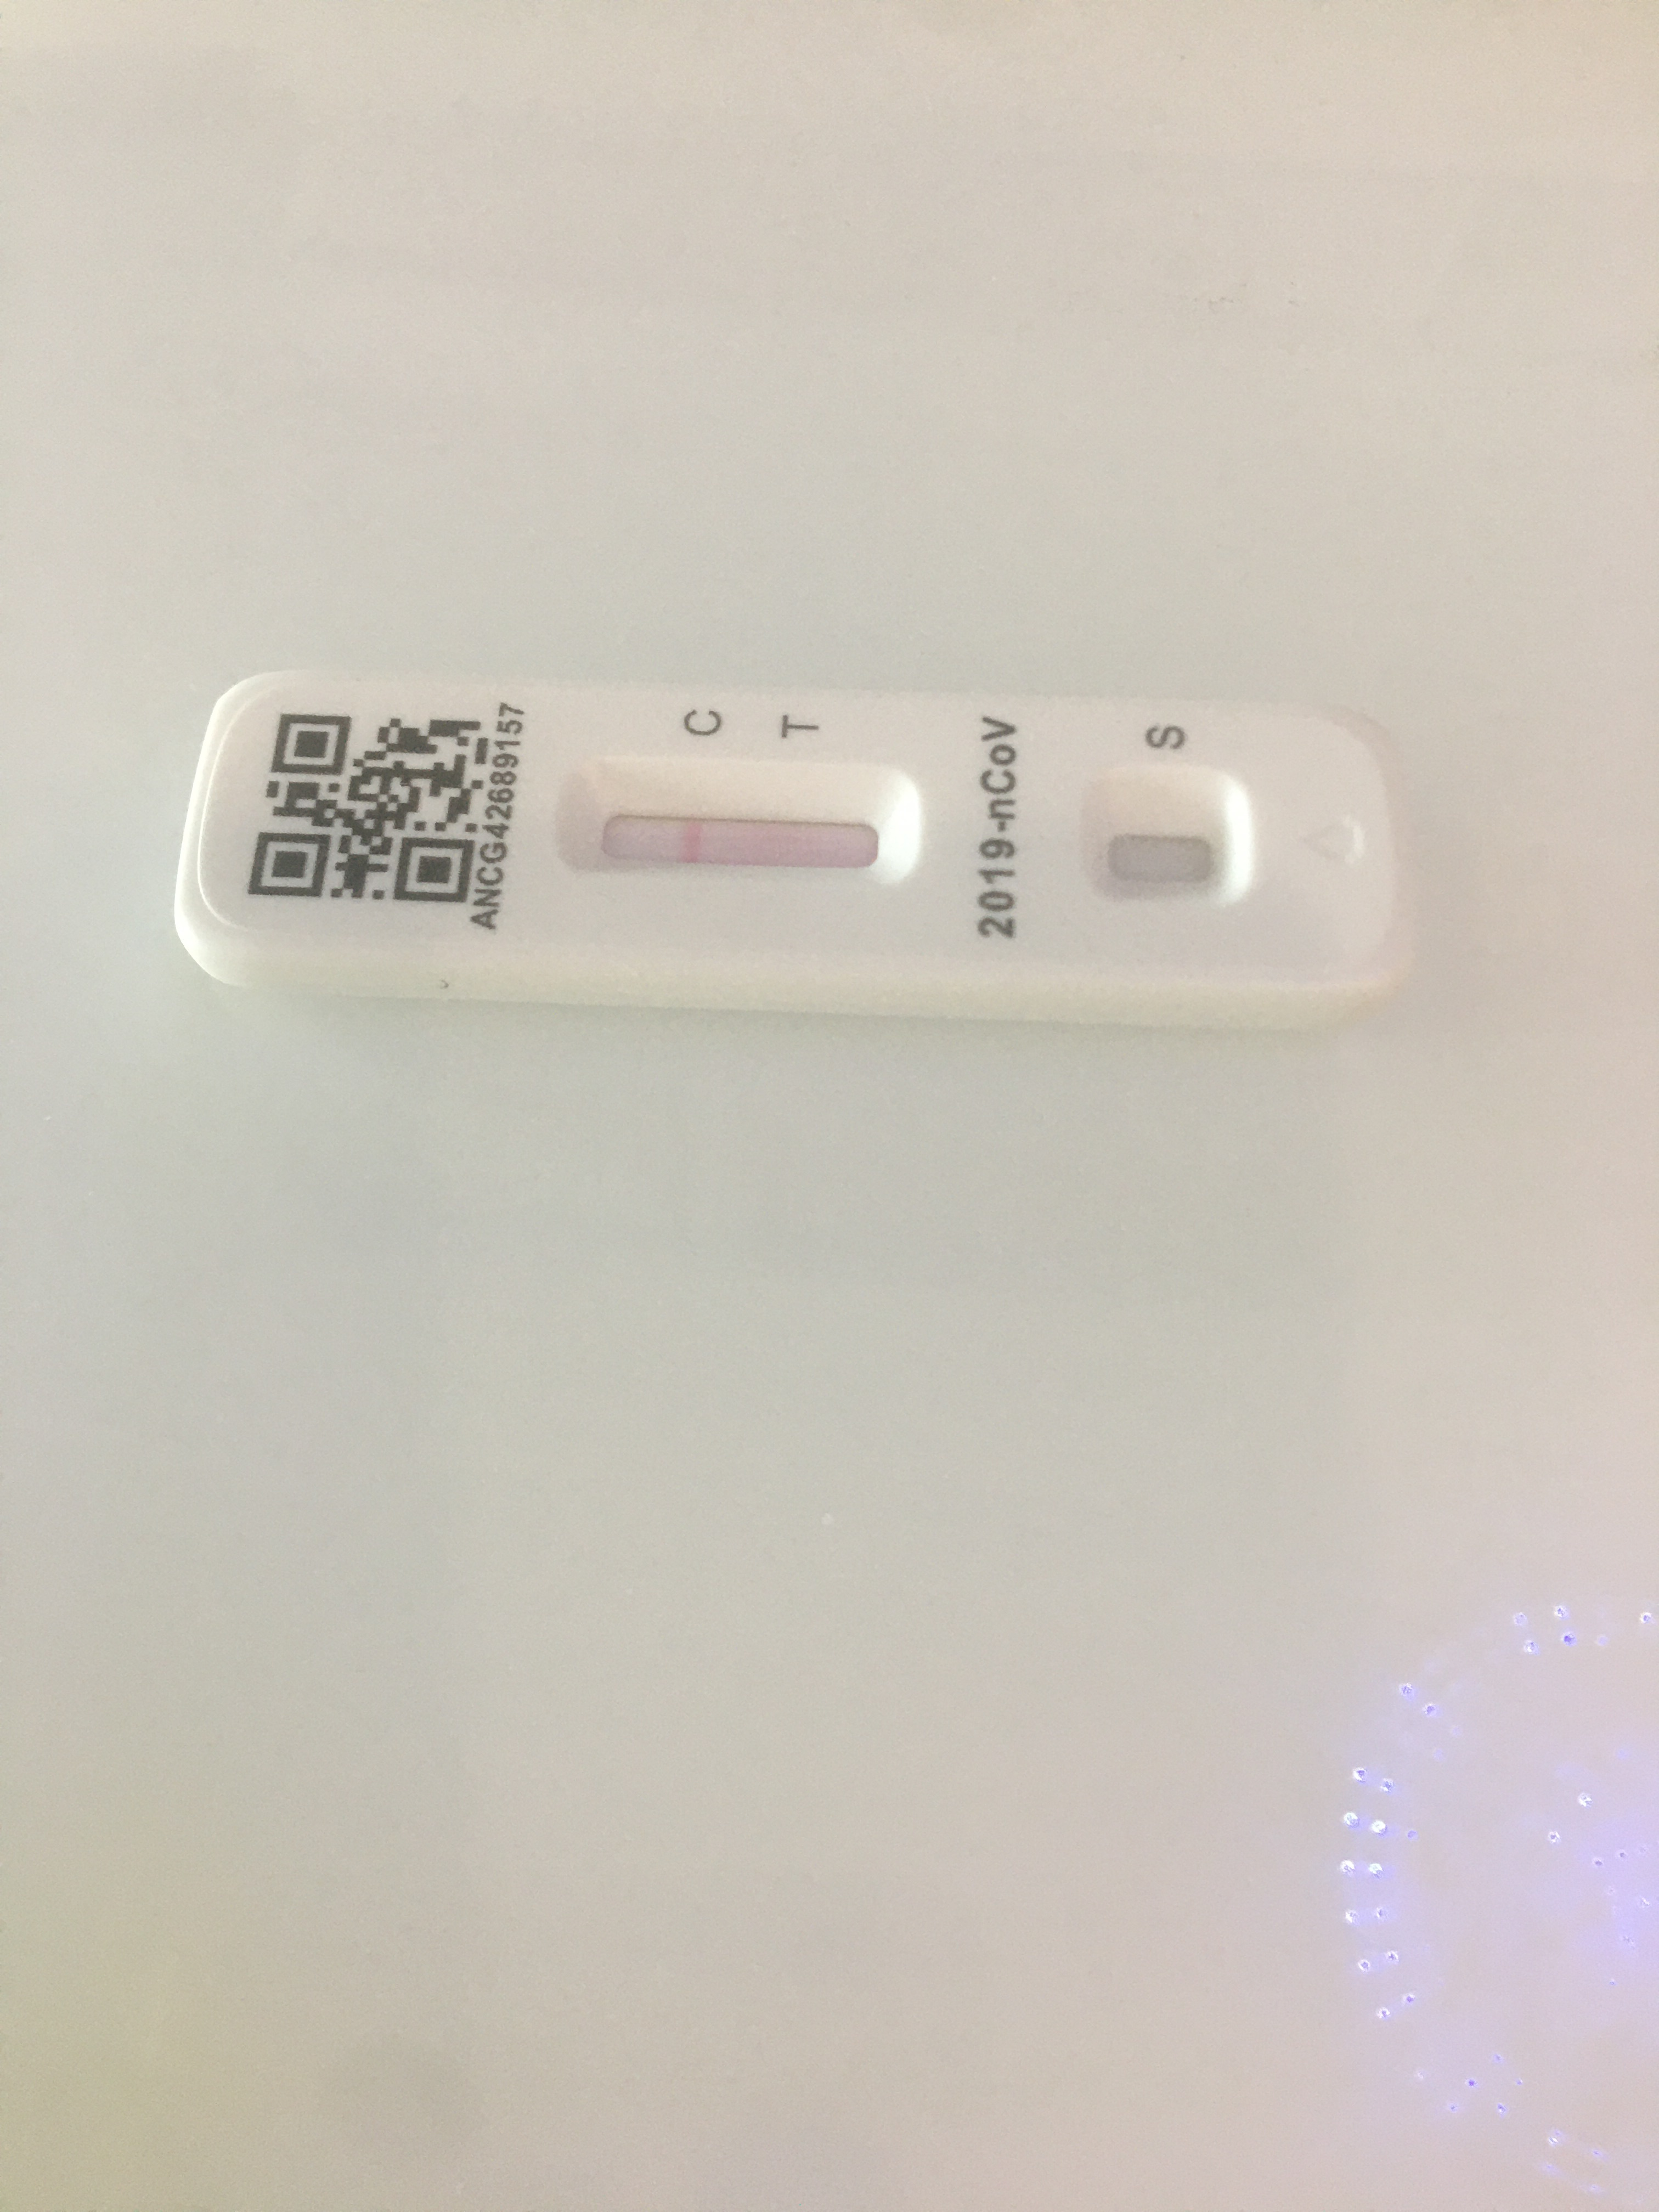negative: (552, 763, 939, 885)
